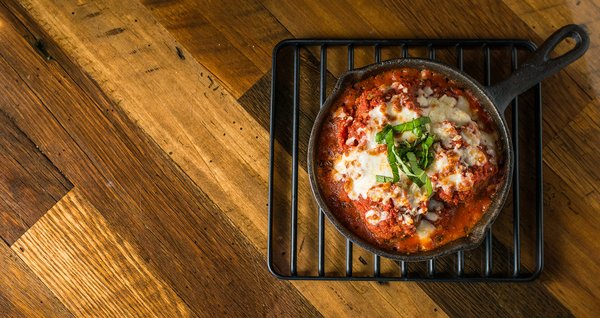salad: (483, 23, 589, 116)
